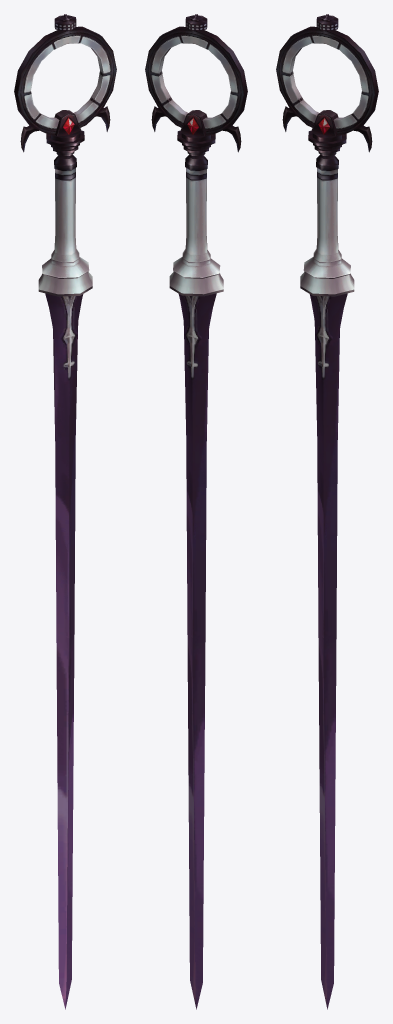
The model's file is Hero_Isaiah_Cos21Advance_Weapon_A.fbx.
3 renders of one model, left to right at view 1: azimuth 30°, elevation 25°; view 2: azimuth 150°, elevation 25°; view 3: azimuth 330°, elevation 25°, orthographic.
Visible parts, largest first — view 1: Hero_Isaiah_Cos21Advance_Weapon_A; view 2: Hero_Isaiah_Cos21Advance_Weapon_A; view 3: Hero_Isaiah_Cos21Advance_Weapon_A.
Boxes of the visible parts, x1,y1,x2,y2 form: Hero_Isaiah_Cos21Advance_Weapon_A: (14,14,116,1009); Hero_Isaiah_Cos21Advance_Weapon_A: (145,14,247,1009); Hero_Isaiah_Cos21Advance_Weapon_A: (276,14,378,1009).
Bounding box in the file's own units: 0.1065 × 1.02 × 0.0541.
Materials: 1 (1 with a texture image).
